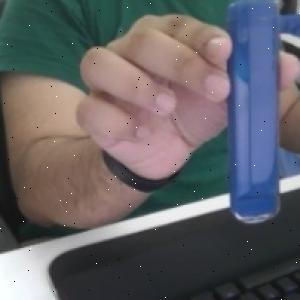Diamond-E-Ciggirate: (224, 0, 284, 226)
